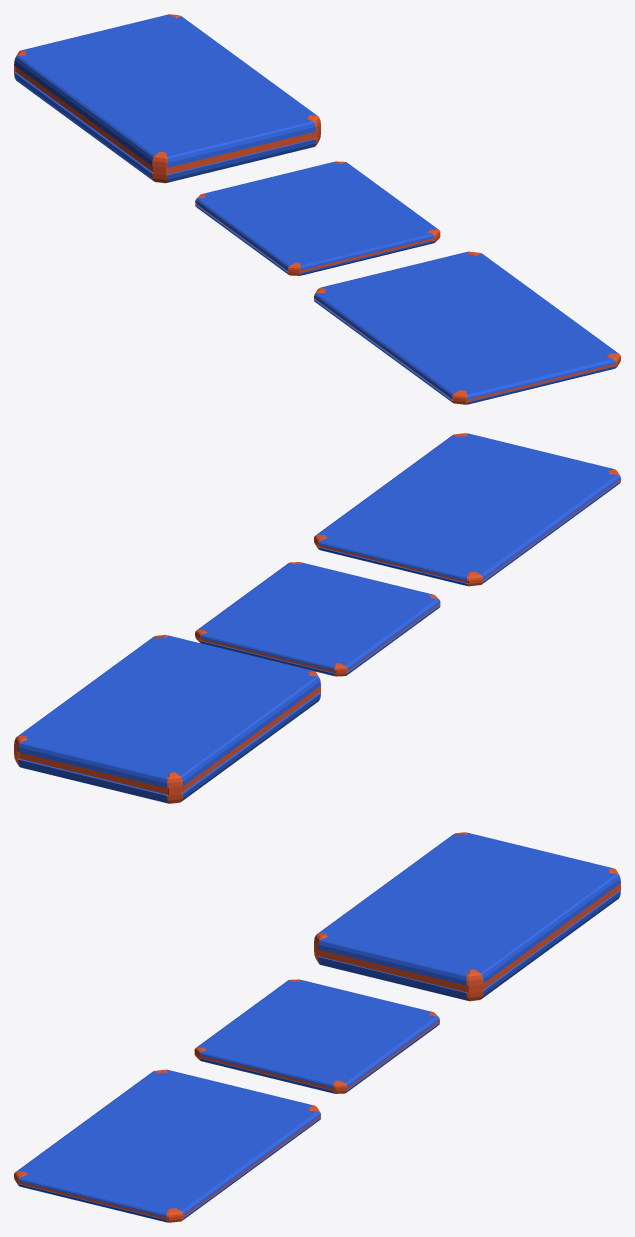
The model's file is Pads.fbx.
The picture shows the model from 3 angles, top to bottom: view 1: azimuth 30°, elevation 25°; view 2: azimuth 150°, elevation 25°; view 3: azimuth 330°, elevation 25°; orthographic projection.
Visible parts, largest first — view 1: Pad-Big, Pad-medium, Pad-small; view 2: Pad-Big, Pad-medium, Pad-small; view 3: Pad-Big, Pad-medium, Pad-small.
Part boxes in pixels (x1,y1,x2,y2): Pad-Big: (14, 14, 320, 183); Pad-medium: (314, 251, 620, 404); Pad-small: (195, 161, 440, 275); Pad-Big: (14, 634, 320, 803); Pad-medium: (314, 433, 620, 586); Pad-small: (195, 562, 440, 676); Pad-Big: (314, 832, 620, 1001); Pad-medium: (14, 1069, 320, 1222); Pad-small: (194, 979, 439, 1093).
Size of the model in its own units: 391 by 66.68 by 1799.
